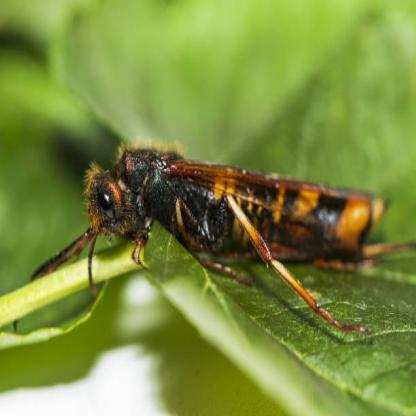sawfly: (13, 129, 416, 337)
